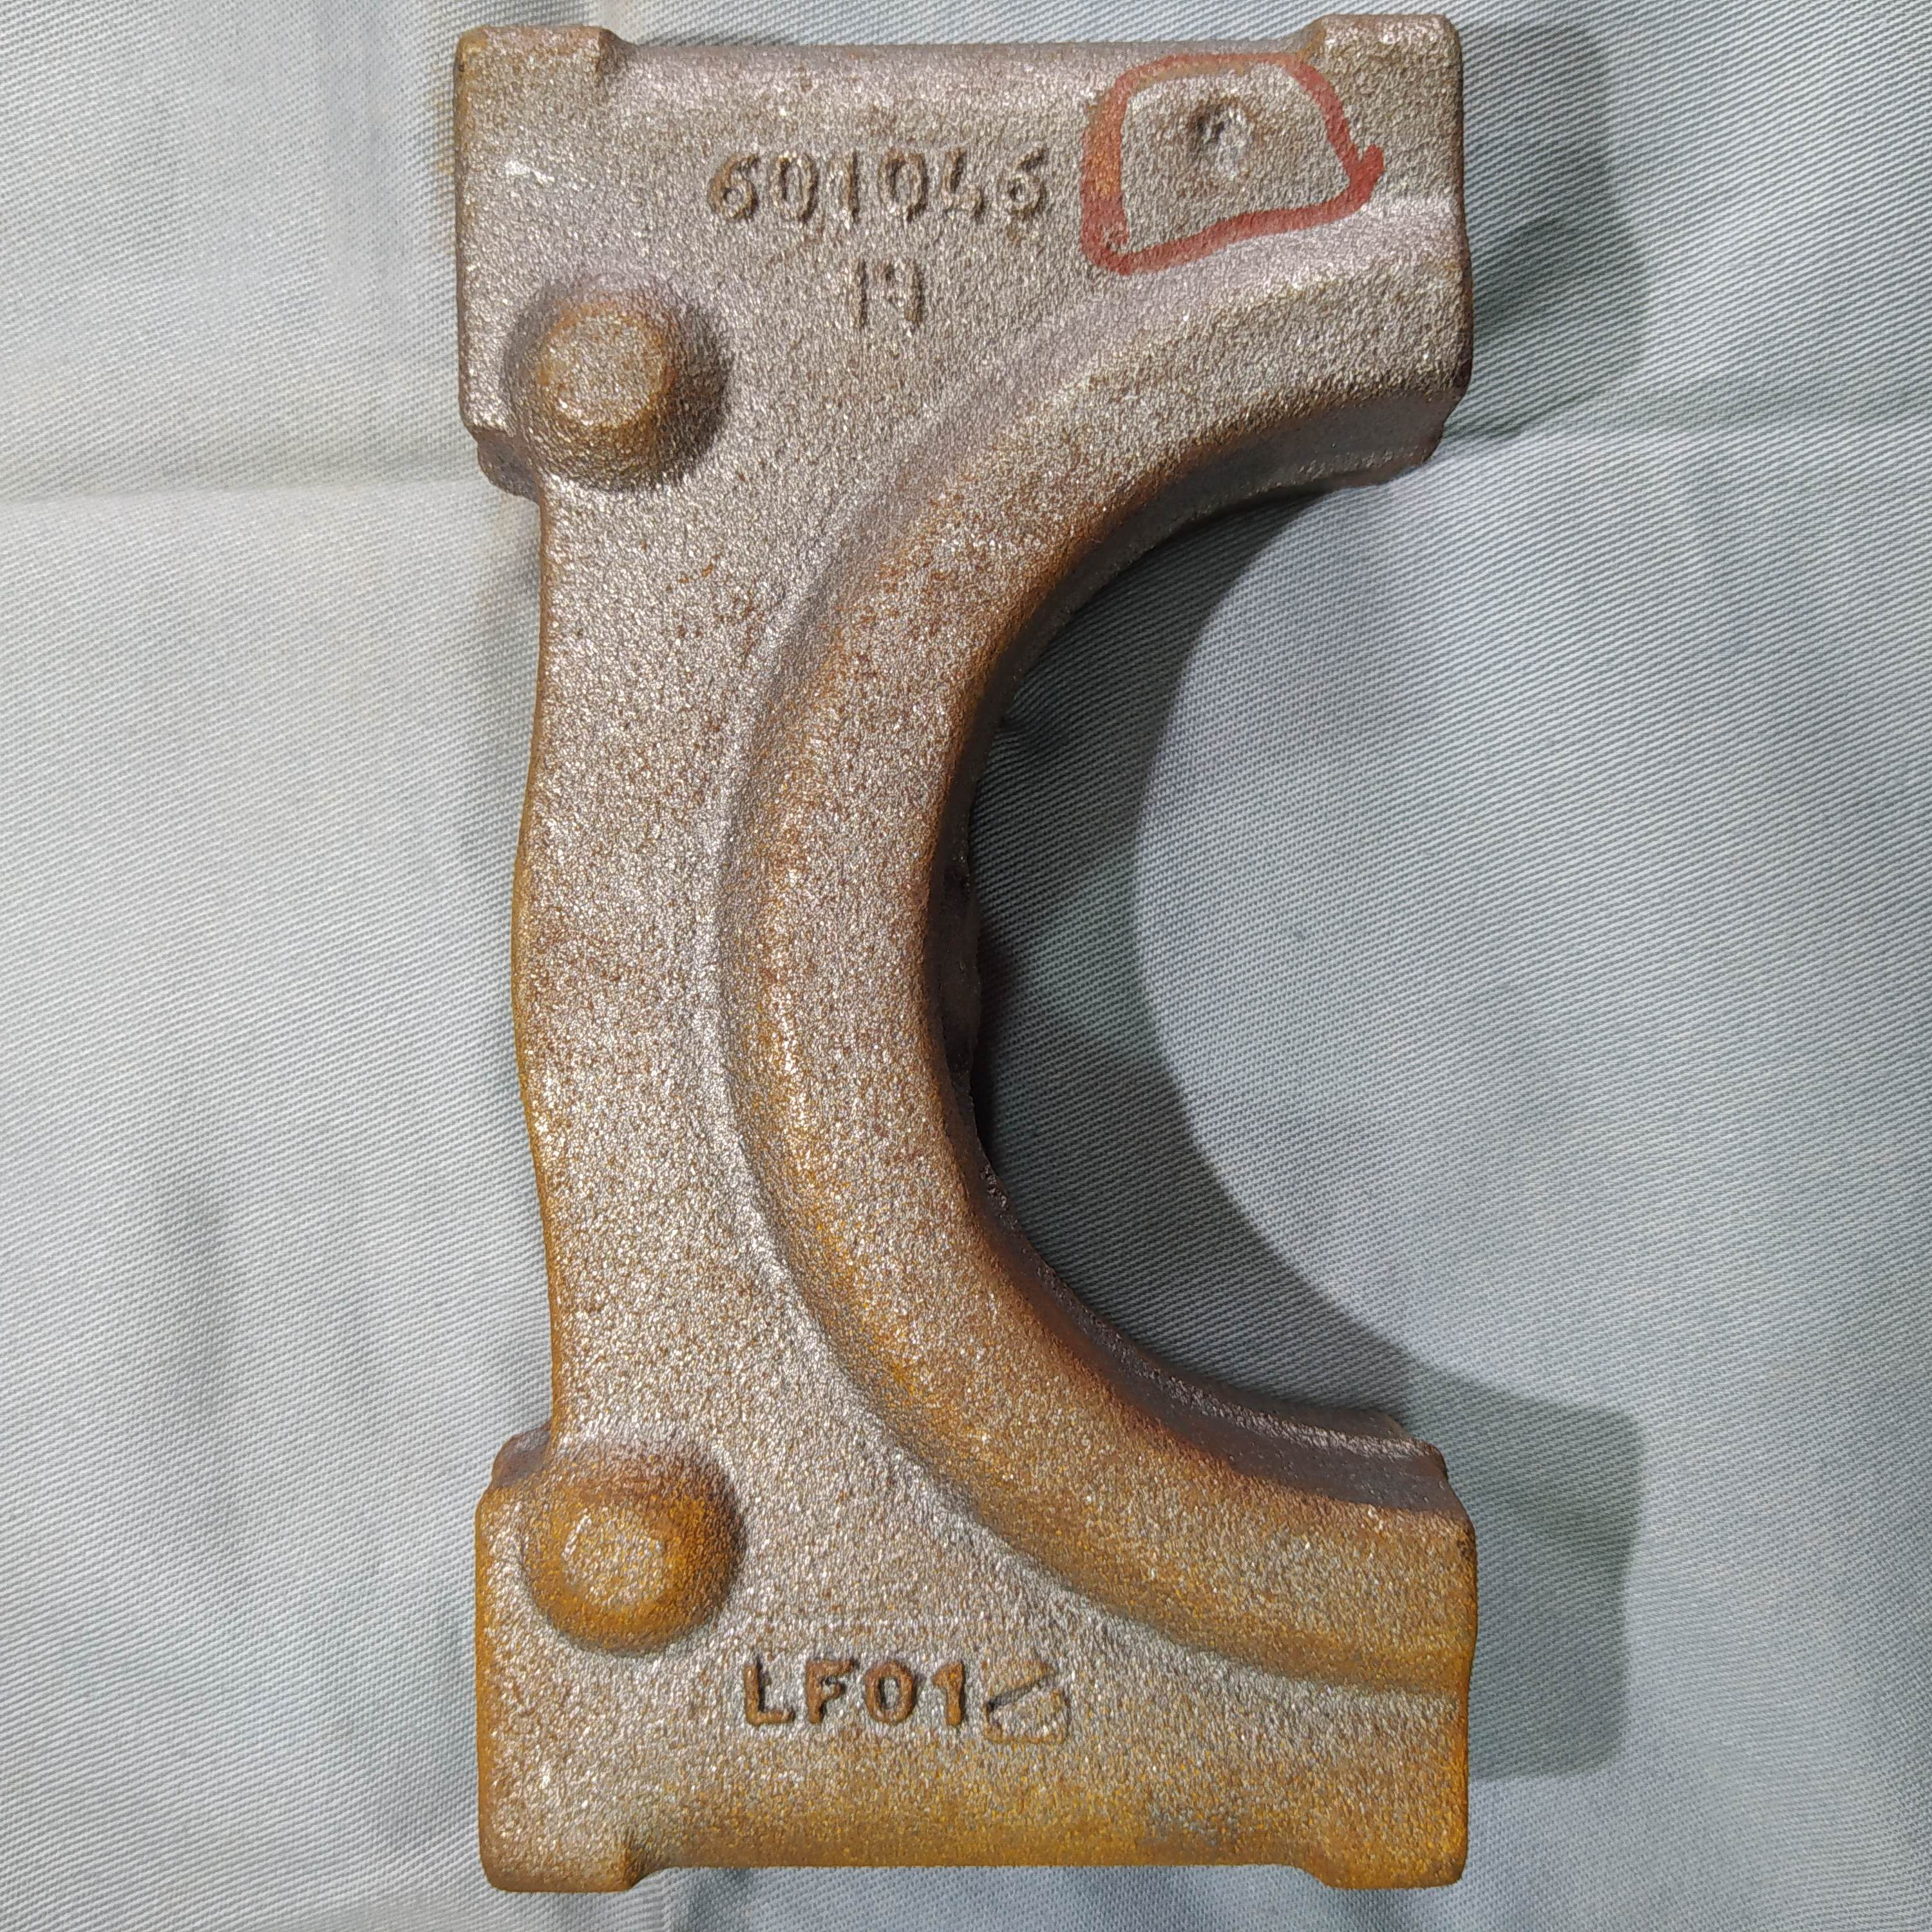buraco: (1182, 87, 1274, 193)
